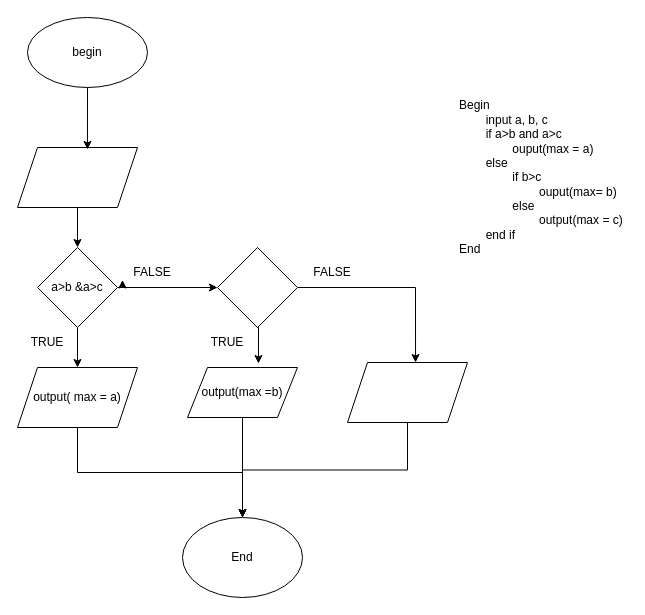
The diagram is 645 pixels wide and 615 high, and some of its shapes have lost their labels. Each missing label, with the centre of its shape:
"b>c" goes at point 257,287.
"input a,b,b" goes at point 77,177.
"ouput( max=c)" goes at point 407,392.
